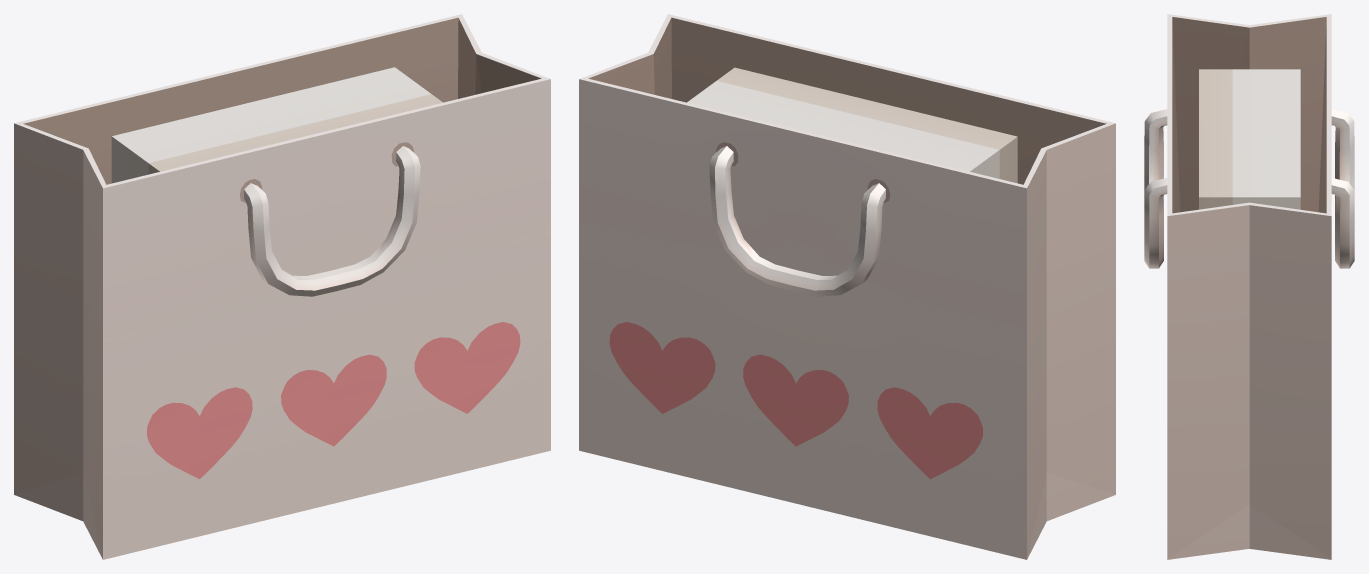
The model's file is Doll_OB_Shoppingbag_001.FBX.
3 renders of one model, left to right at view 1: azimuth 30°, elevation 25°; view 2: azimuth 150°, elevation 25°; view 3: azimuth 270°, elevation 25°, orthographic. The views are drawn at different scales.
Visible parts, largest first — view 1: Doll_OB_Shoppingbag_001; view 2: Doll_OB_Shoppingbag_001; view 3: Doll_OB_Shoppingbag_001.
Part boxes in pixels (left/top/right/bottom): Doll_OB_Shoppingbag_001: left=14, top=14, right=550, bottom=559; Doll_OB_Shoppingbag_001: left=579, top=14, right=1115, bottom=559; Doll_OB_Shoppingbag_001: left=1144, top=14, right=1354, bottom=559.
Bounding box in the file's own units: 52.02 × 41.23 × 22.88.
